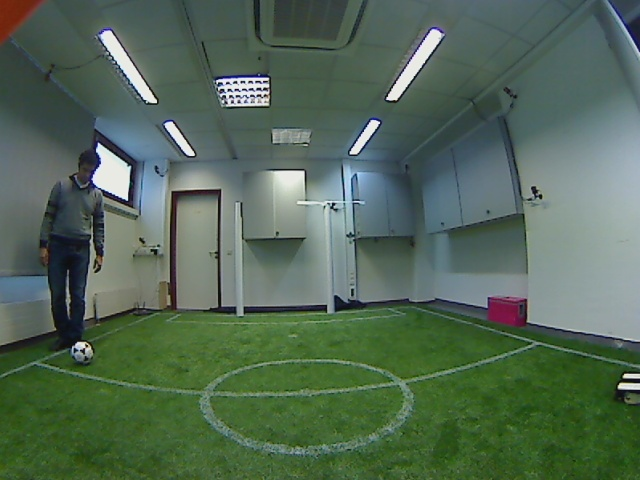ball: (66, 337, 101, 371)
